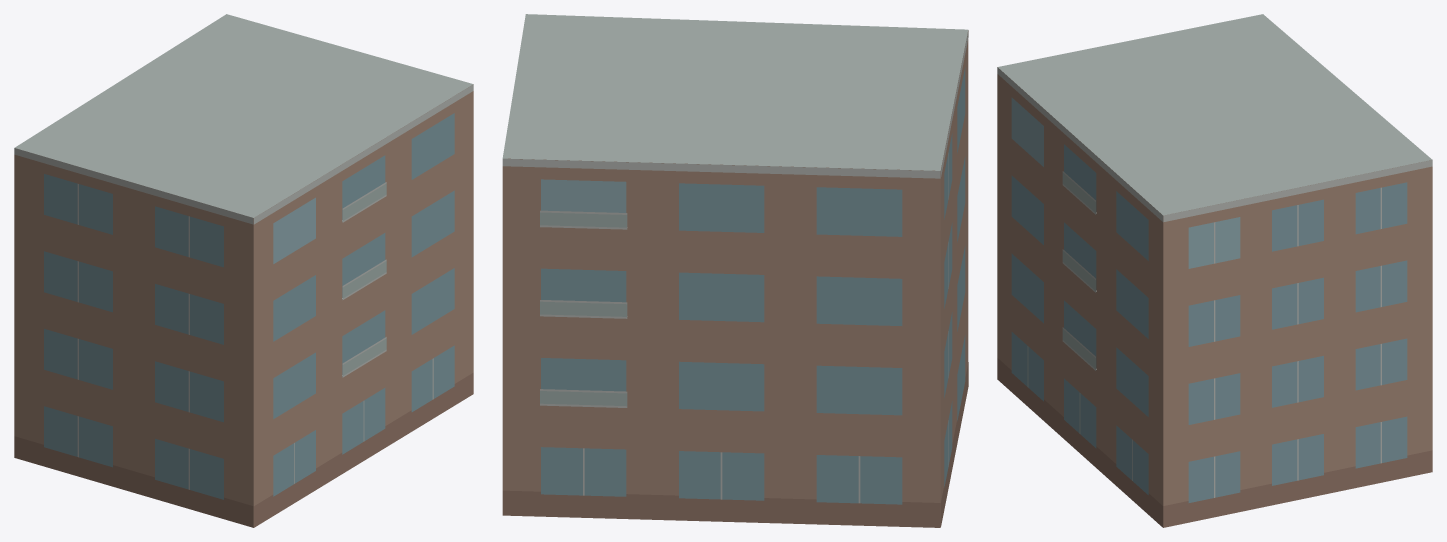
The model's file is survey-upis-32735166.glb.
3 views of the same model, side by side, from view 1: azimuth 30°, elevation 25°; view 2: azimuth 150°, elevation 25°; view 3: azimuth 270°, elevation 25° (orthographic). The views are drawn at different scales.
Visible parts, largest first — view 1: survey-upis-32735166.tmp; view 2: survey-upis-32735166.tmp; view 3: survey-upis-32735166.tmp.
Boxes of the visible parts, left/top/right/bottom form: survey-upis-32735166.tmp: left=14, top=14, right=473, bottom=527; survey-upis-32735166.tmp: left=502, top=14, right=968, bottom=527; survey-upis-32735166.tmp: left=997, top=14, right=1432, bottom=527.
Bounding box in the file's own units: 15.65 × 11.3 × 14.28.
